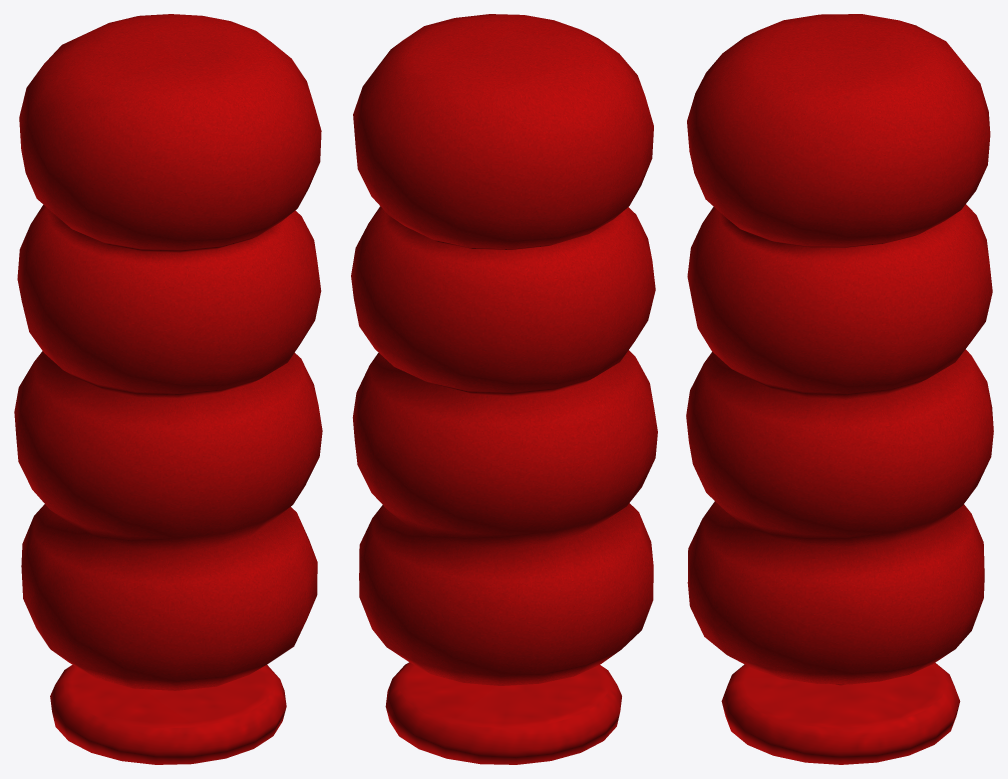
File: MovingBar.fbx
3 views of the same model, side by side, from view 1: azimuth 30°, elevation 25°; view 2: azimuth 150°, elevation 25°; view 3: azimuth 270°, elevation 25° (orthographic).
Parts seen in each view (by area): view 1: Combined_Mesh__root__scene__3_10; view 2: Combined_Mesh__root__scene__3_10; view 3: Combined_Mesh__root__scene__3_10.
Boxes of the visible parts, bbox=[...] form: Combined_Mesh__root__scene__3_10: bbox=[14, 14, 322, 764]; Combined_Mesh__root__scene__3_10: bbox=[351, 14, 657, 764]; Combined_Mesh__root__scene__3_10: bbox=[686, 14, 993, 764].
Size of the model in its own units: 5.87 by 13.99 by 5.81.
